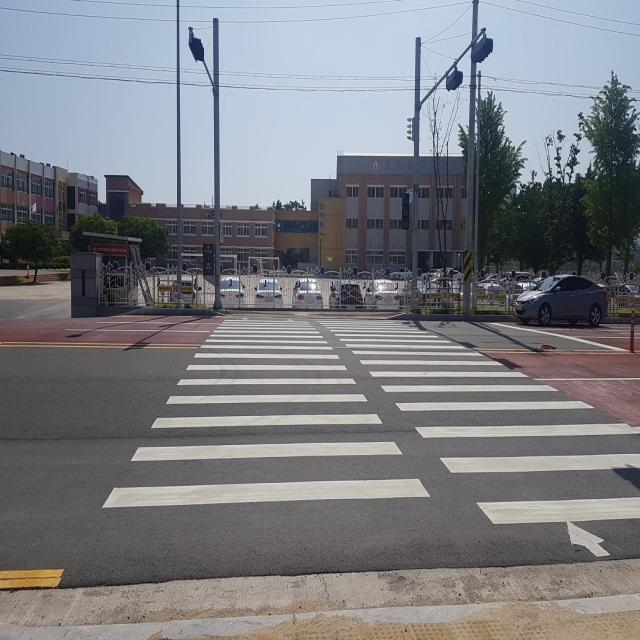횡단보도: (101, 314, 640, 559)
